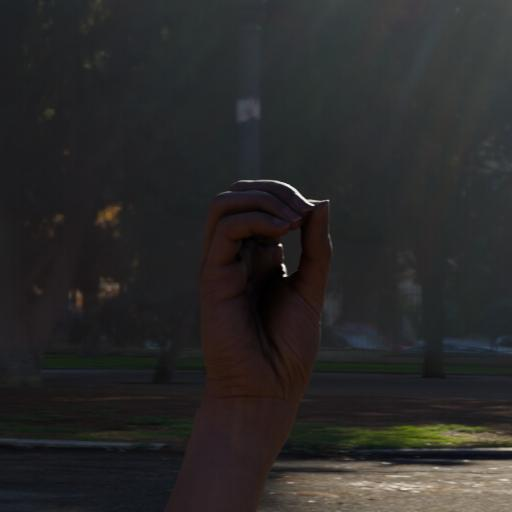O: (194, 171, 338, 430)
